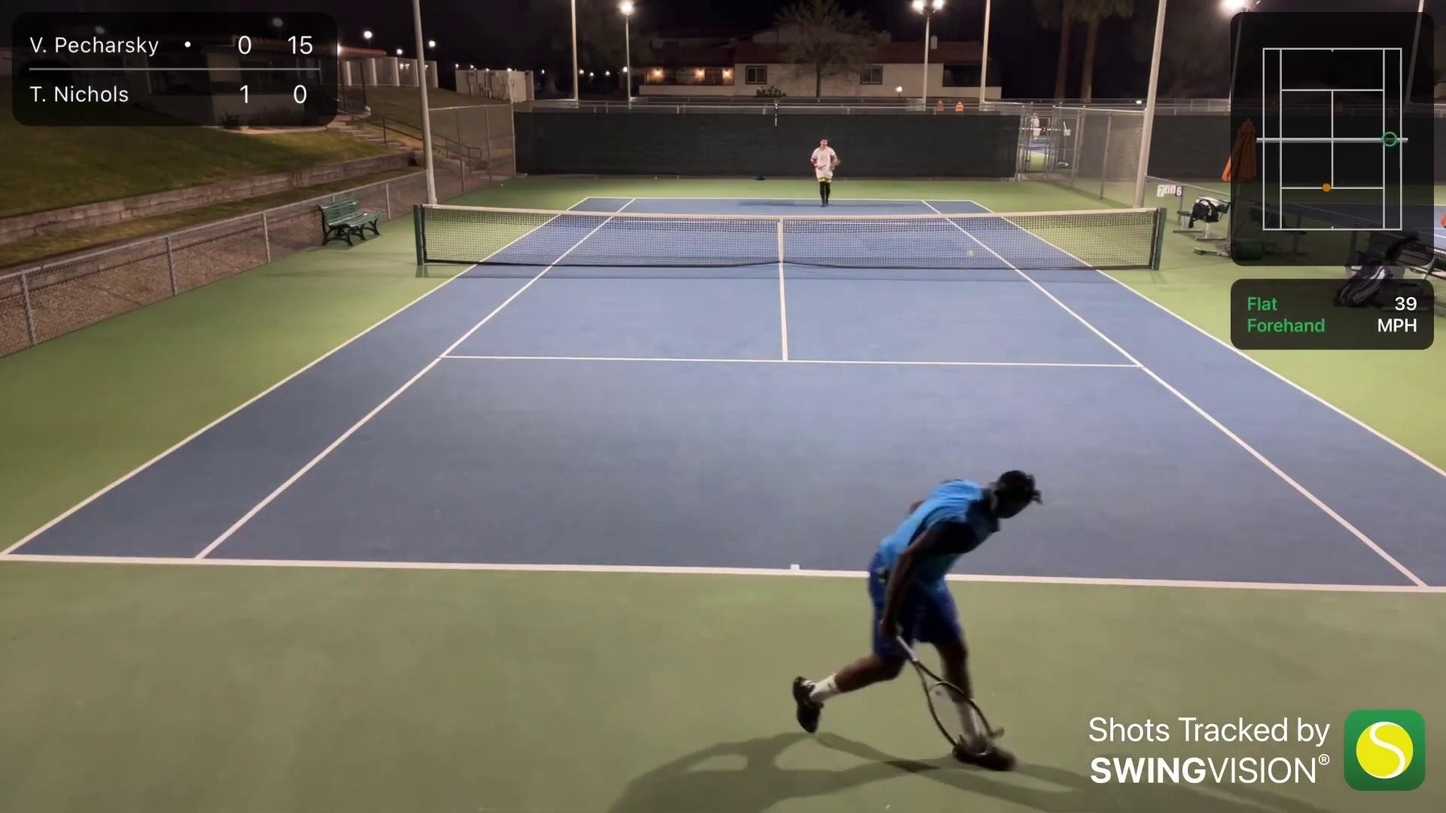ball: (967, 248, 974, 255)
